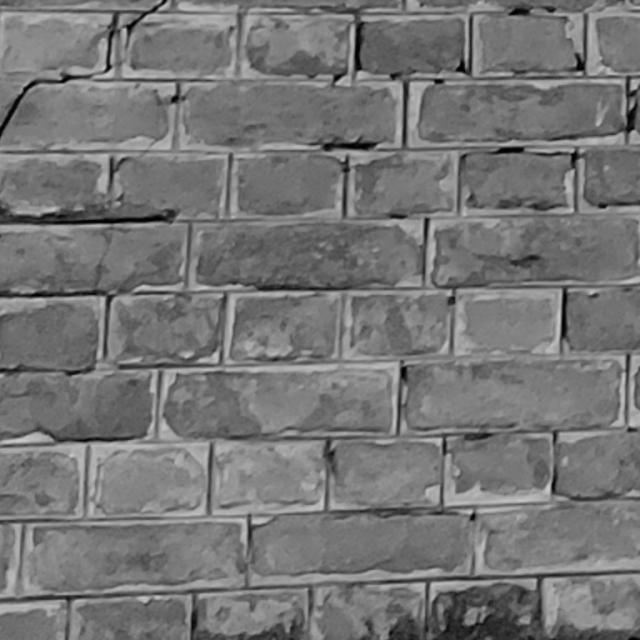crack: (1, 1, 166, 132)
